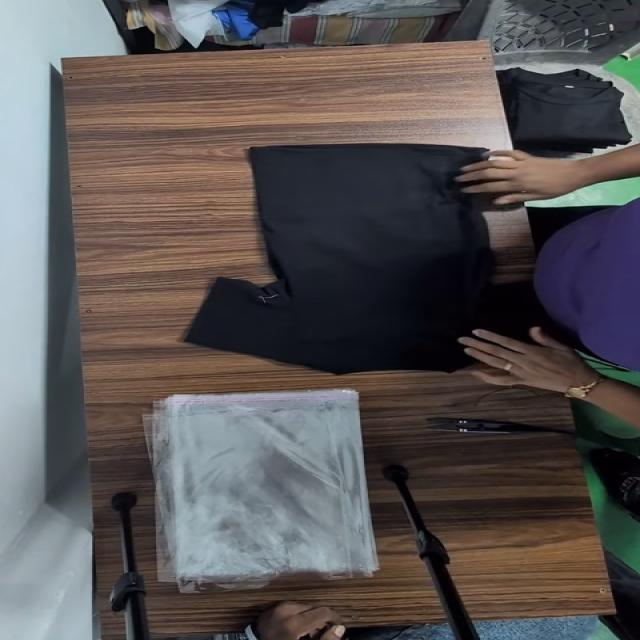new-garment: (185, 144, 545, 374)
